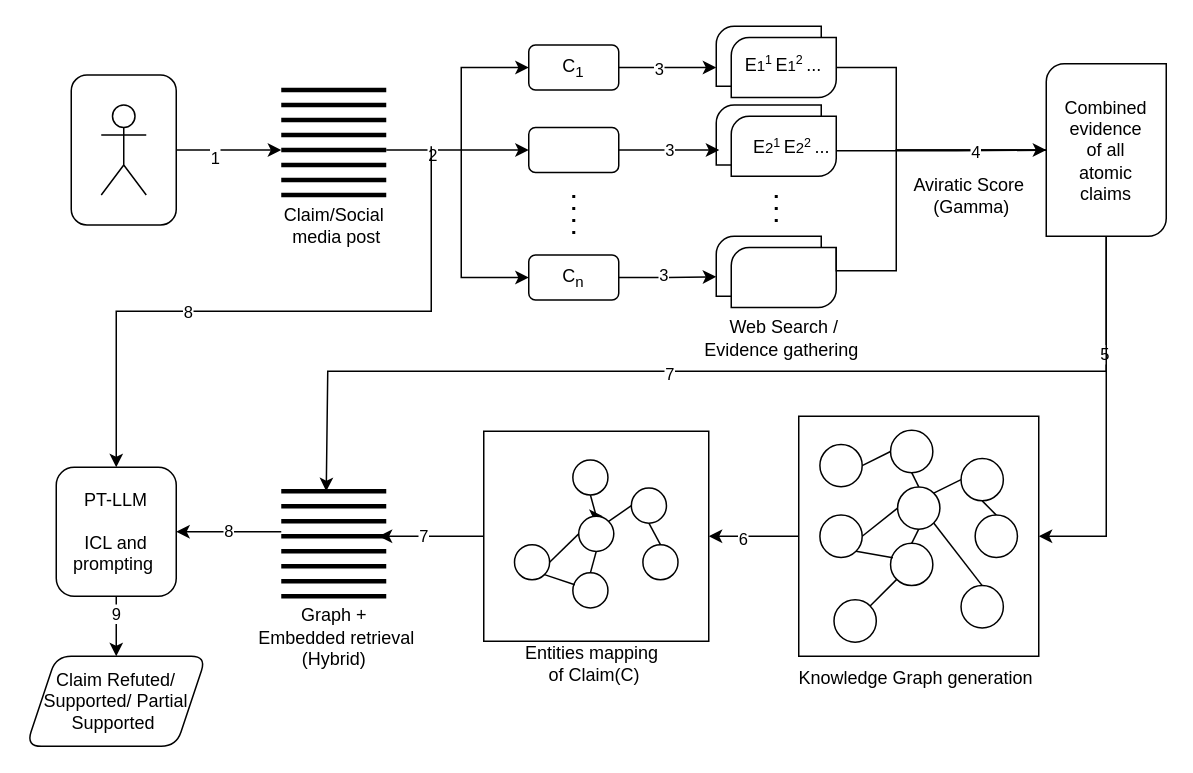
The diagram is 1193 pixels wide and 773 high, and some of its shapes have lost their labels. The shapes that lost their labels are listed below. From the top down, each one's box as (x1, y1, x2, y2) in pixels, then its label:
(100, 104, 146, 195): User
(527, 126, 619, 172): C 2
(730, 246, 836, 308): E 3 1 E 3 2 ...
